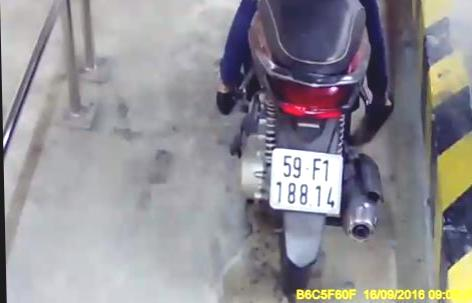License_Plate: (258, 144, 353, 220)
